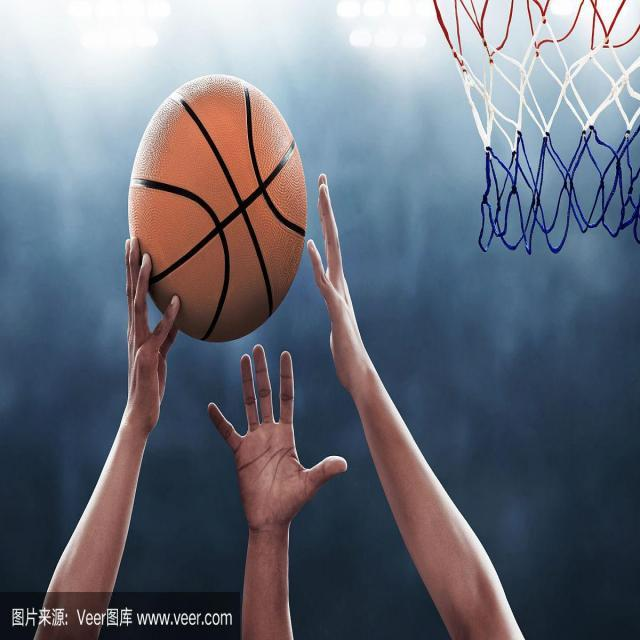rim: (130, 72, 306, 341)
